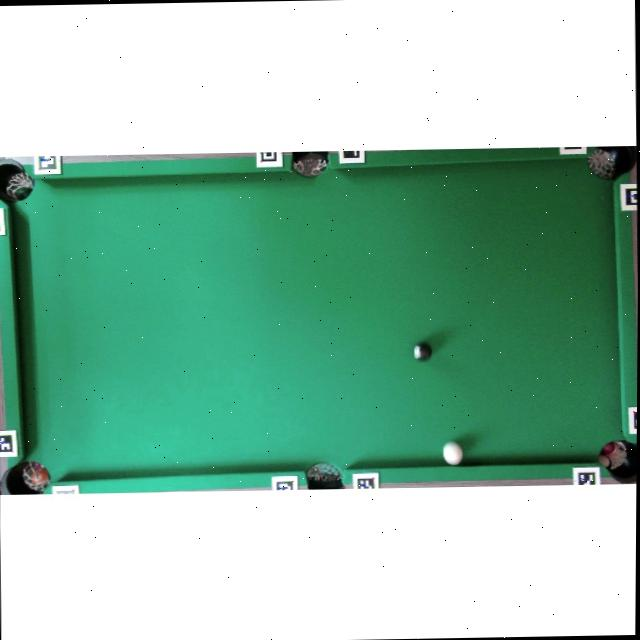cue ball: (441, 440, 464, 466)
other: (413, 341, 432, 360)
